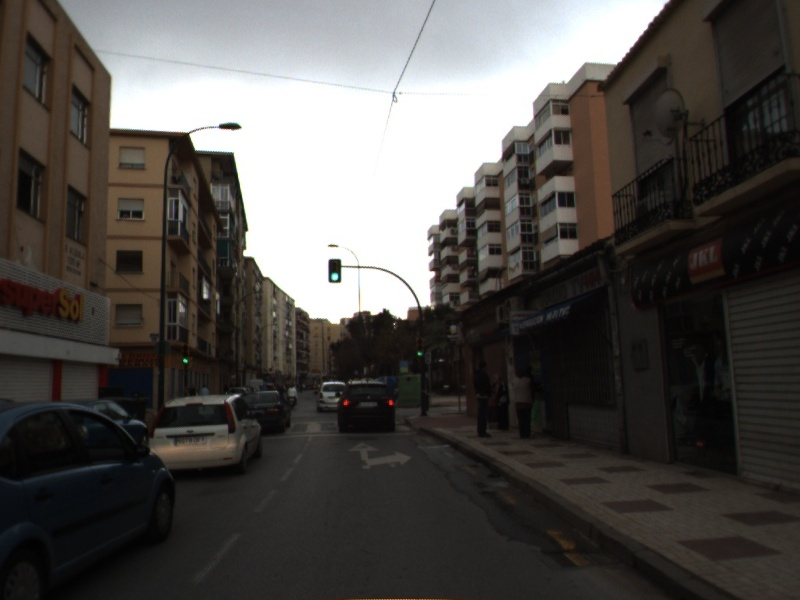STRAIGHT_RIGHT: (346, 440, 414, 471)
